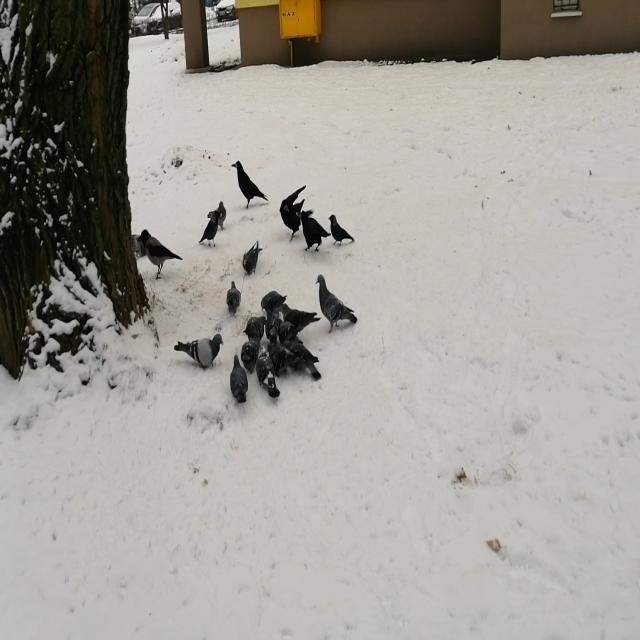bird: (316, 275, 358, 333), (138, 230, 182, 282), (232, 159, 268, 210), (174, 334, 223, 370), (296, 212, 330, 250), (258, 345, 279, 398), (230, 355, 247, 405), (199, 210, 220, 247), (329, 215, 353, 247), (247, 315, 265, 343), (228, 282, 240, 317), (243, 341, 257, 367), (132, 234, 146, 258), (226, 200, 226, 202)
